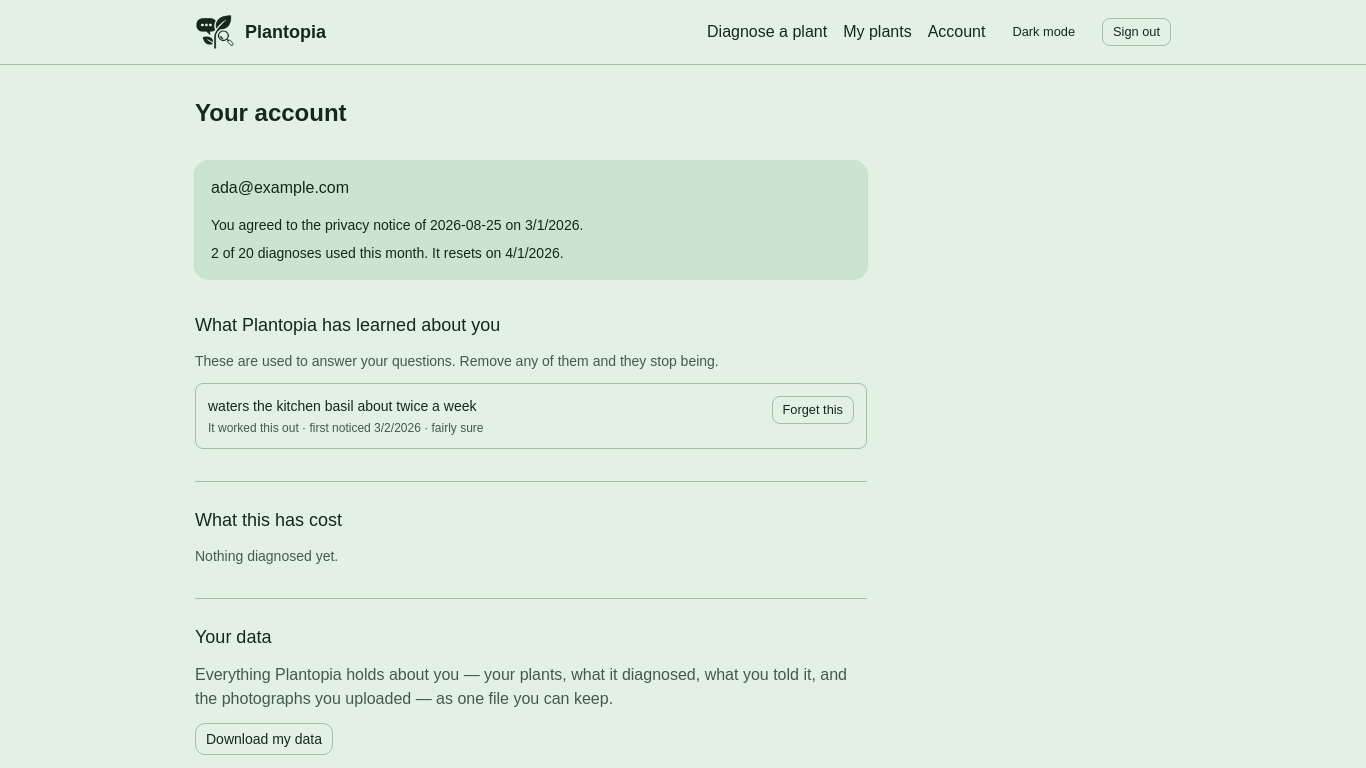
what has been learned › stops showing a fact once it is forgotten
Click the button "Forget this": [813, 410] box top-left (772, 396), bottom-right (854, 424)
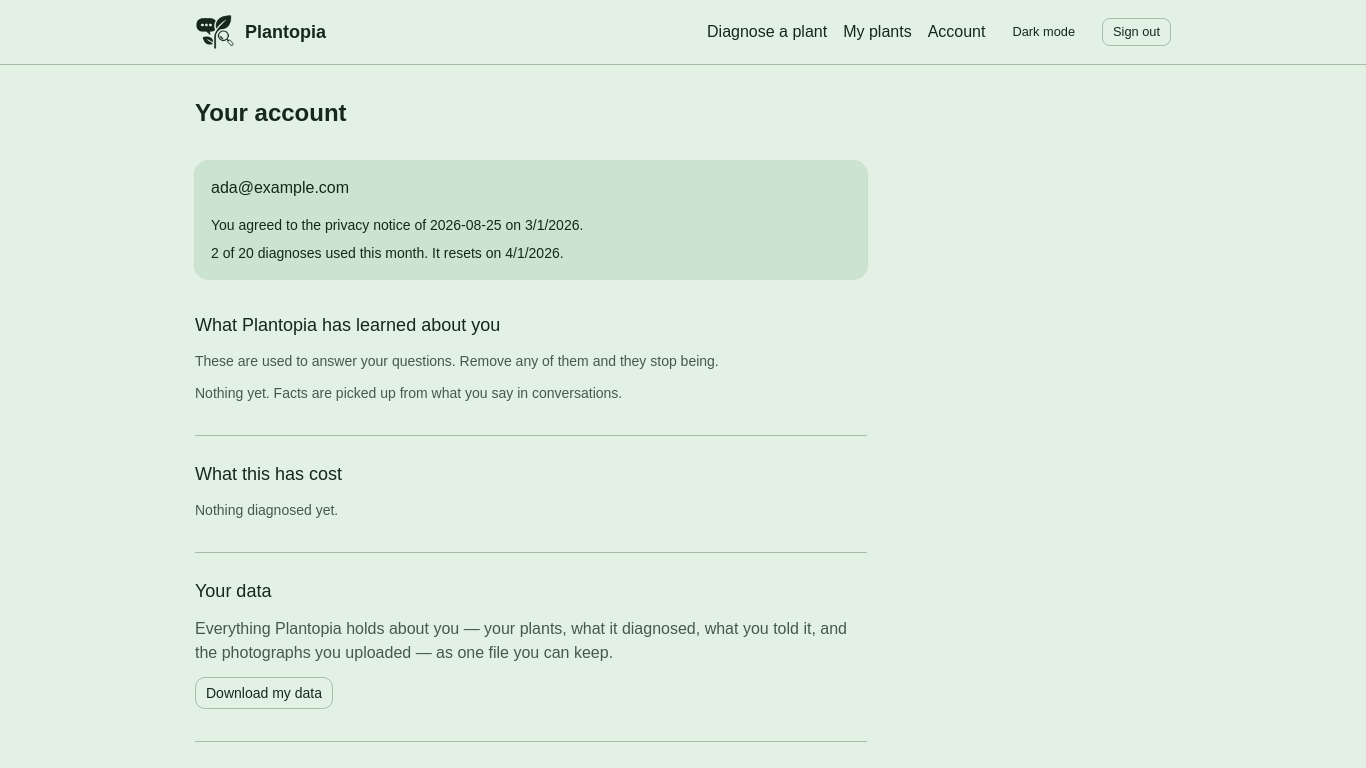
Expected: the text "waters the kitchen basil about twice a week" is gone
